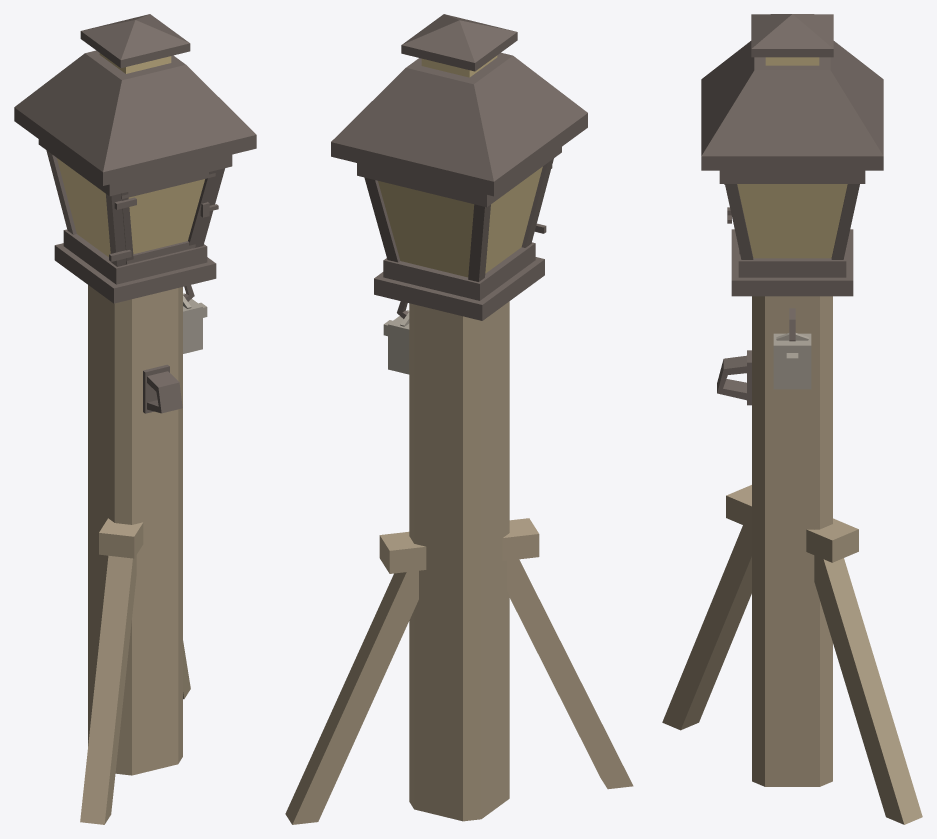
The model's file is lantern.glb.
3 views of the same model, side by side, from view 1: azimuth 30°, elevation 25°; view 2: azimuth 150°, elevation 25°; view 3: azimuth 270°, elevation 25° (orthographic). The views are drawn at different scales.
Parts seen in each view (by area): view 1: lantern; view 2: lantern; view 3: lantern.
Boxes of the visible parts, left/top/right/bottom form: lantern: left=14, top=14, right=256, bottom=824; lantern: left=285, top=14, right=633, bottom=824; lantern: left=662, top=14, right=922, bottom=824.
Bounding box in the file's own units: 1 × 3.2 × 1.
